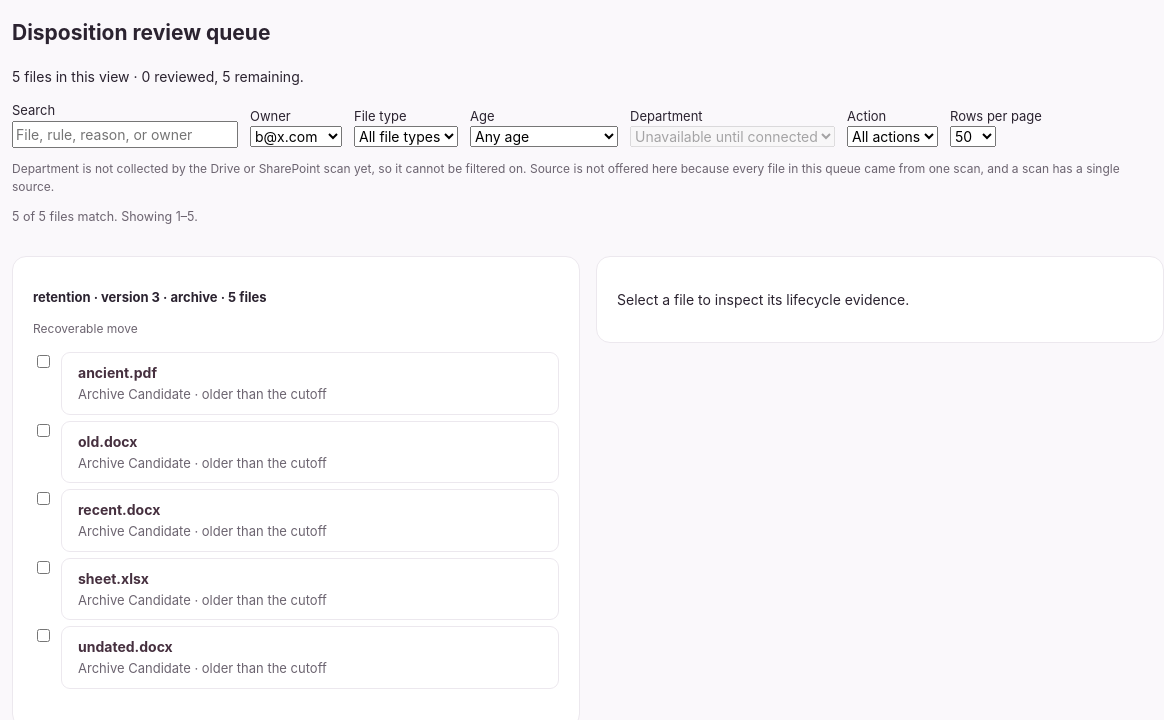
Test: filters compose › applies owner and file type together
The width and height of the screenshot is (1164, 720).
Select "b@x.com" in the dropdown labelled "Owner" at (296, 137), box [250,126,342,147]
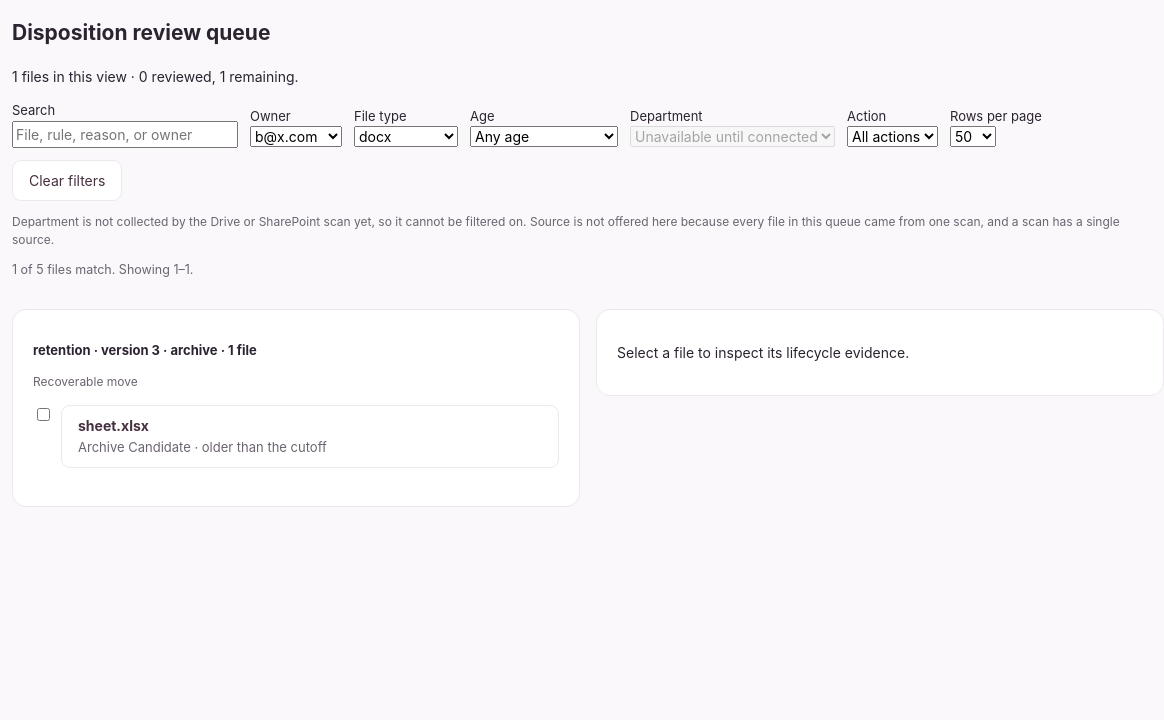
Result: the text "1 files in this view" is shown at [12,68,298,85]
Select "docx" in the dropdown labelled "File type" at (406, 137), box [354,126,458,147]
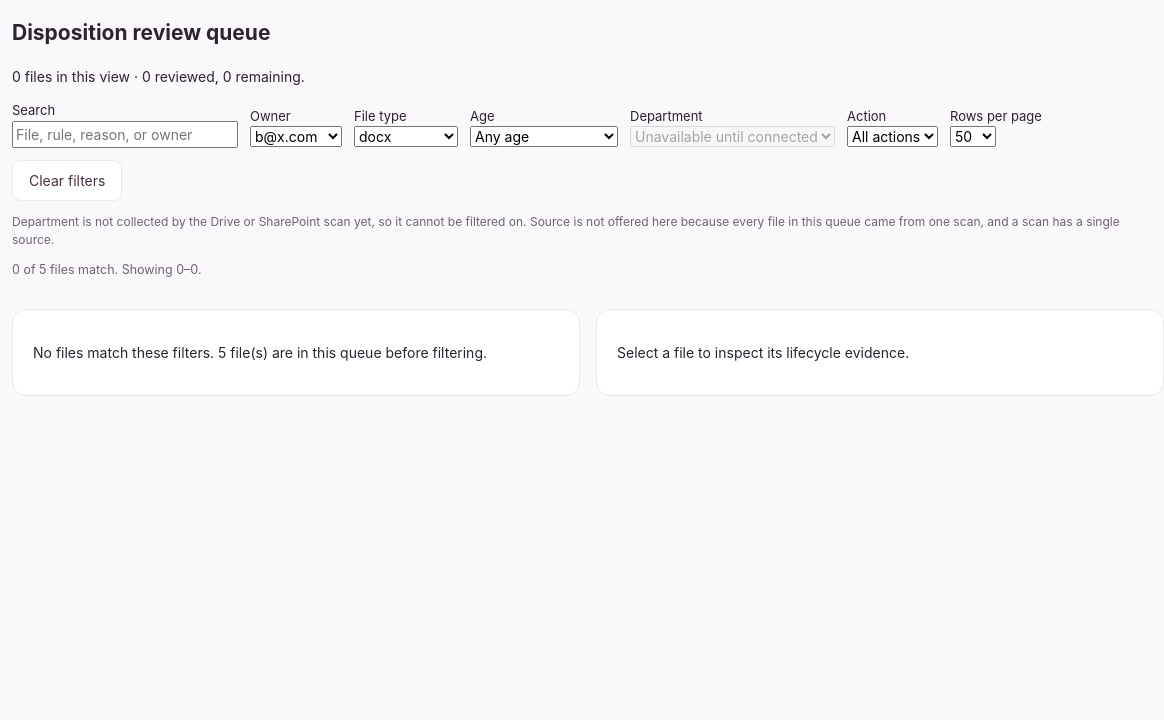
Result: the text "0 files in this view" is shown at [12,68,305,85]
Result: the text "No files match these filters" is shown at [33,344,487,361]
